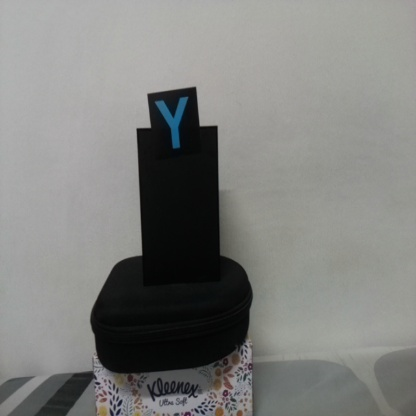id_14: (147, 92, 200, 162)
